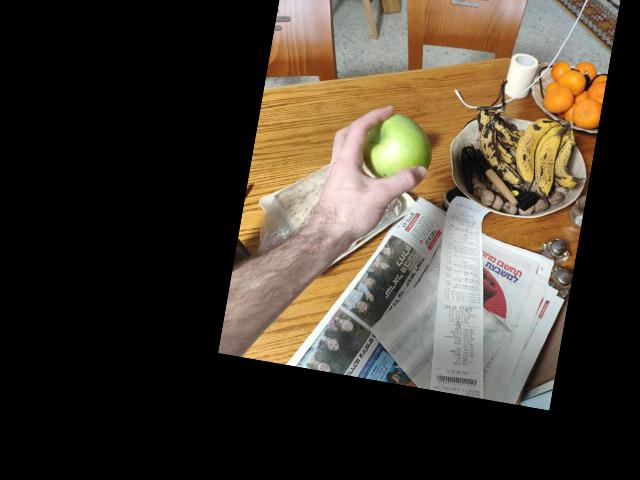apple: (353, 103, 436, 192)
